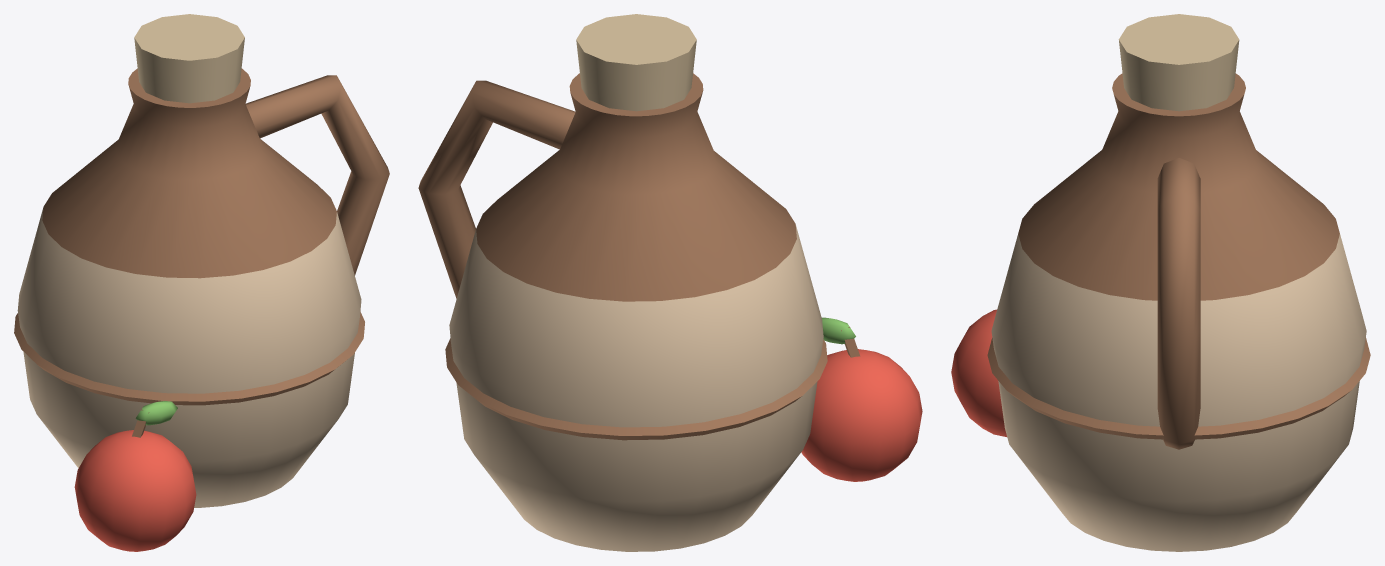
File: food_cider.glb
3 renders of one model, left to right at view 1: azimuth 30°, elevation 25°; view 2: azimuth 150°, elevation 25°; view 3: azimuth 270°, elevation 25°, orthographic. The views are drawn at different scales.
Visible parts, largest first — view 1: food_cider; view 2: food_cider; view 3: food_cider.
Boxes of the visible parts, <box> form: food_cider: <box>14,14,389,551</box>; food_cider: <box>418,14,922,551</box>; food_cider: <box>951,14,1370,551</box>.
Bounding box in the file's own units: 0.3547 × 0.38 × 0.313.
